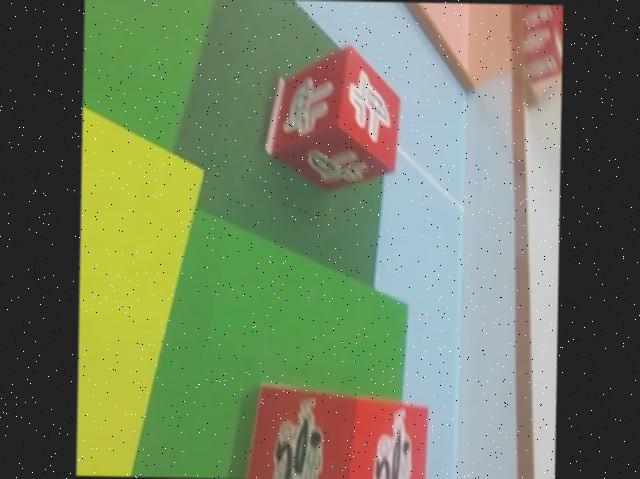R1: (233, 380, 434, 479)
R2 Real: (265, 41, 406, 197)
